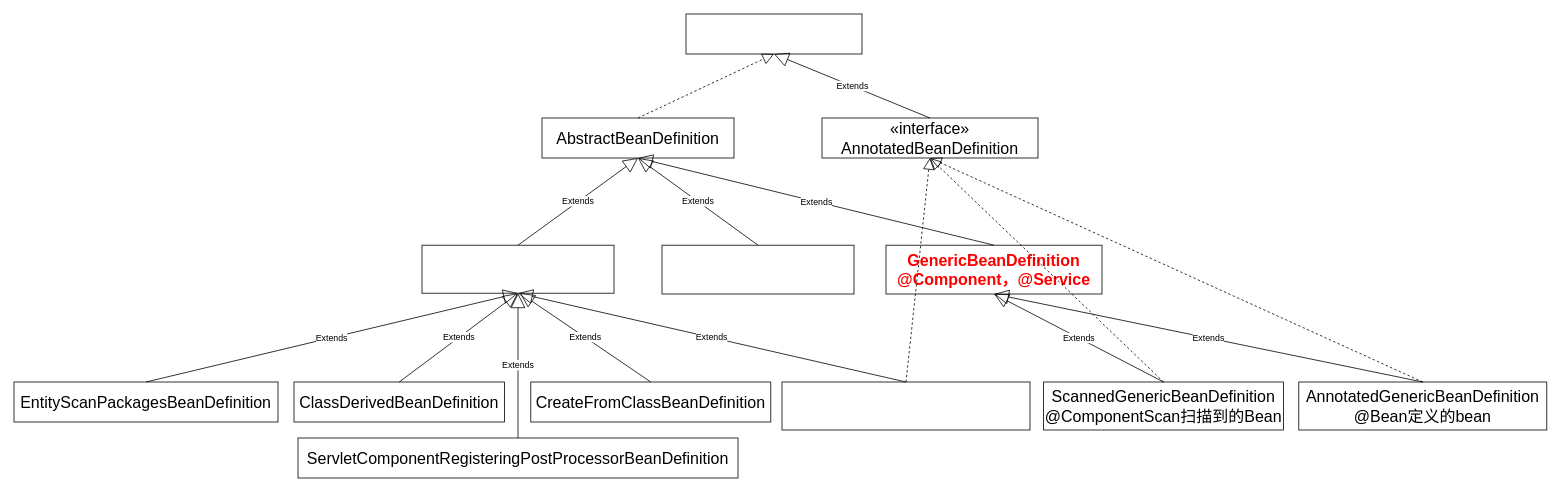
This 1561x492 diagram has some shape labels left out. Here are the shapes that lost their labels. From the top down, the centre of each, then its label:
the point at 773,33: «interface» BeanDefinition
the point at 517,268: RootBeanDefinition xml中使用
the point at 757,269: ChildBeanDefinition xml中使用
the point at 905,405: ConfigurationClassBeanDefinition @Bean定义的bean
